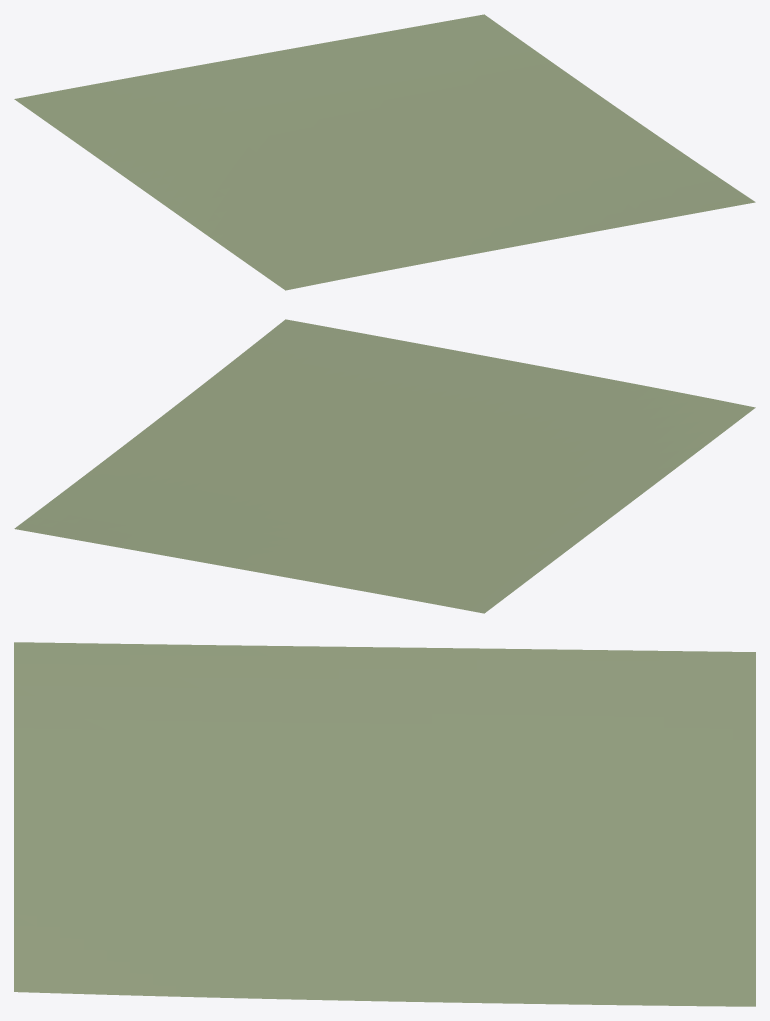
Rendered from desert-1-23.glb.
The picture shows the model from 3 angles, top to bottom: view 1: azimuth 30°, elevation 25°; view 2: azimuth 150°, elevation 25°; view 3: azimuth 270°, elevation 25°; orthographic projection. The views are drawn at different scales.
Visible parts, largest first — view 1: desert-1-23; view 2: desert-1-23; view 3: desert-1-23.
Boxes of the visible parts, x1,y1,x2,y2 form: desert-1-23: [14, 14, 755, 290]; desert-1-23: [14, 319, 755, 613]; desert-1-23: [14, 642, 755, 1006].
Size of the model in its own units: 512 by 38.89 by 512.
